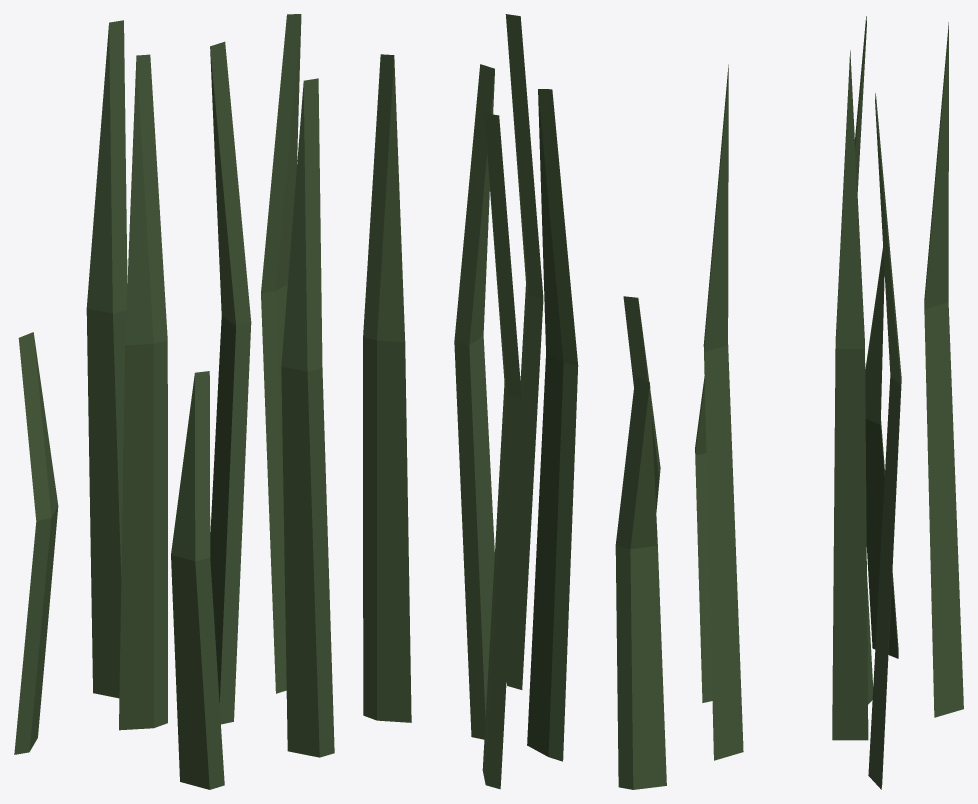
Rendered from Grass_3.gltf.
3 views of the same model, side by side, from view 1: azimuth 30°, elevation 25°; view 2: azimuth 150°, elevation 25°; view 3: azimuth 270°, elevation 25° (orthographic). The views are drawn at different scales.
Visible parts, largest first — view 1: Grass_3; view 2: Grass_3; view 3: Grass_3.
Part boxes in pixels (x1,y1,x2,y2): Grass_3: (14,14,334,789); Grass_3: (363,14,666,789); Grass_3: (695,16,963,789).
Bounding box in the file's own units: 0.3738 × 0.7952 × 0.2824.
